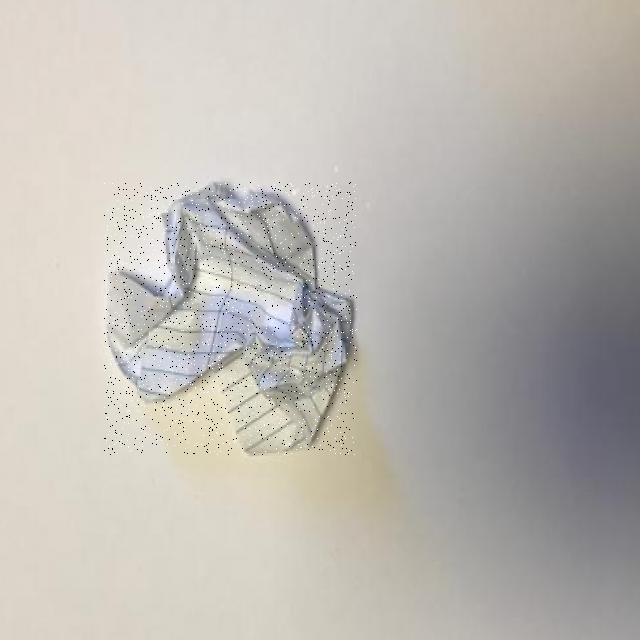paper: (105, 182, 357, 455)
